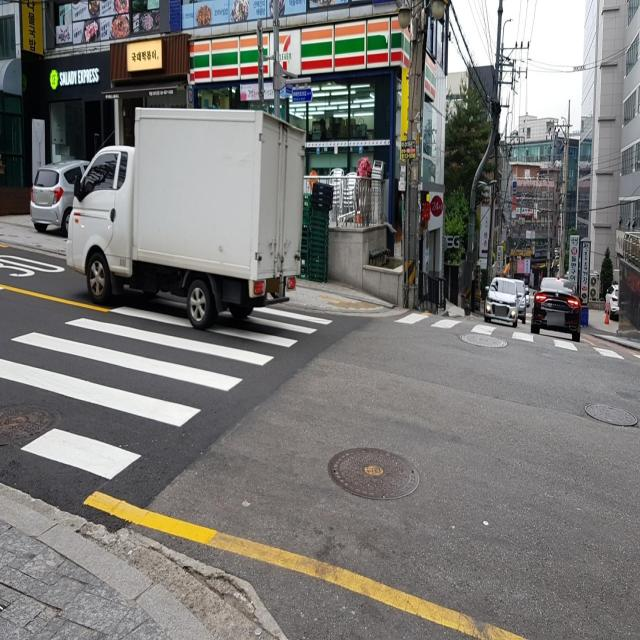횡단보도: (0, 301, 334, 485), (390, 301, 640, 364)
